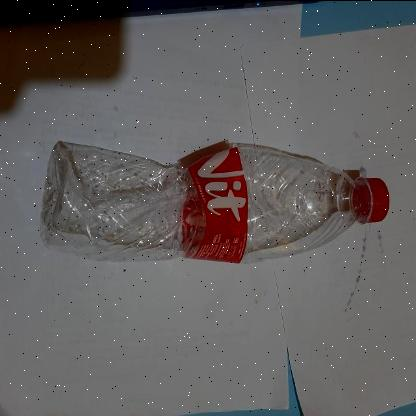Plastic Bottle: (41, 140, 390, 262)
